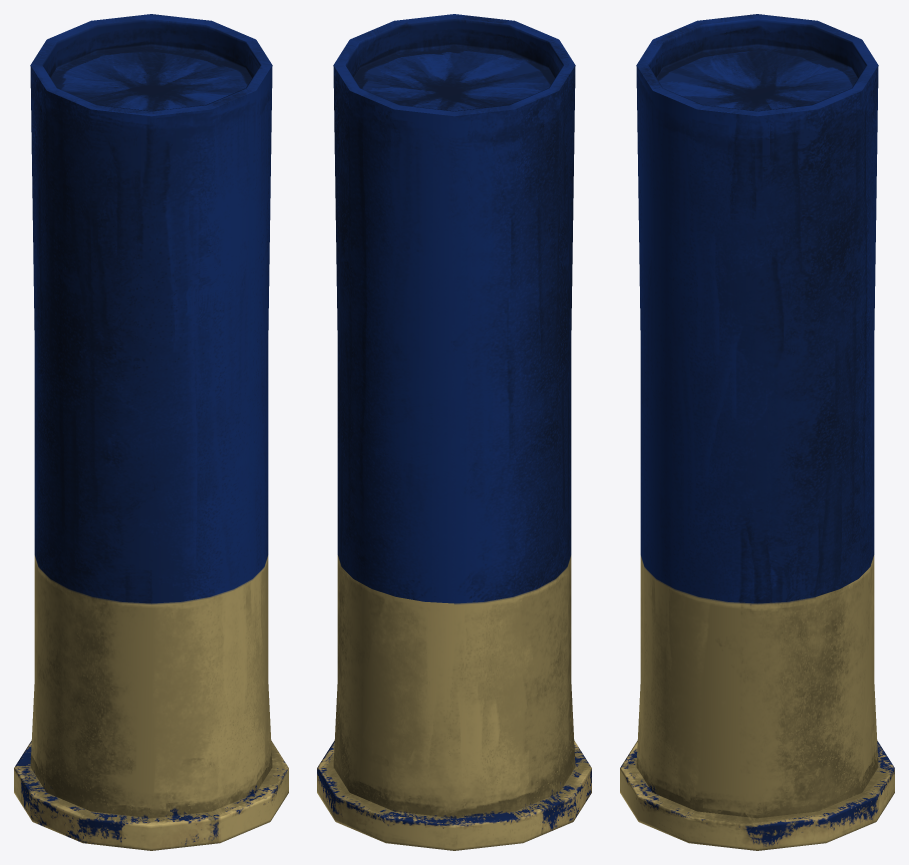
Rendered from ShotgunSlugShell.glb.
The picture shows the model from 3 angles, left to right: view 1: azimuth 30°, elevation 25°; view 2: azimuth 150°, elevation 25°; view 3: azimuth 270°, elevation 25°; orthographic projection.
Parts seen in each view (by area): view 1: ShotgunSlugShell; view 2: ShotgunSlugShell; view 3: ShotgunSlugShell.
Part boxes in pixels (x1,y1,x2,y2): ShotgunSlugShell: [14, 14, 288, 850]; ShotgunSlugShell: [317, 14, 591, 850]; ShotgunSlugShell: [620, 14, 894, 850].
Bounding box in the file's own units: 0.0436 × 0.1276 × 0.0436.
Materials: 1 (1 with a texture image).
